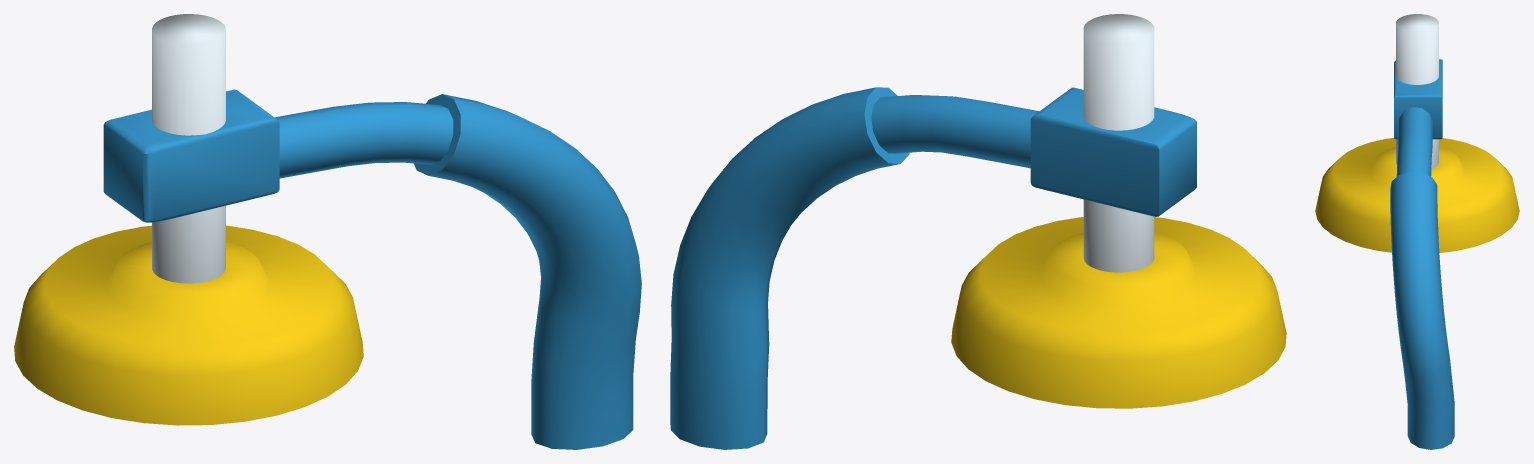
The model's file is engel_renkli.fbx.
The picture shows the model from 3 angles, left to right: view 1: azimuth 30°, elevation 25°; view 2: azimuth 150°, elevation 25°; view 3: azimuth 270°, elevation 25°; orthographic projection. The views are drawn at different scales.
Parts seen in each view (by area): view 1: engel, engel.002, engel.001; view 2: engel, engel.002, engel.001; view 3: engel, engel.002, engel.001.
Part boxes in pixels (x1=…): engel: x1=103, y1=89, x2=641, y2=449; engel.002: x1=14, y1=225, x2=363, y2=425; engel.001: x1=152, y1=14, x2=225, y2=283; engel: x1=670, y1=87, x2=1196, y2=449; engel.002: x1=951, y1=217, x2=1286, y2=408; engel.001: x1=1083, y1=14, x2=1154, y2=272; engel: x1=1390, y1=59, x2=1454, y2=449; engel.002: x1=1315, y1=138, x2=1519, y2=252; engel.001: x1=1396, y1=14, x2=1438, y2=168.
Bounding box in the file's own units: 650 × 523 × 325.
1 material, 1 textured.
